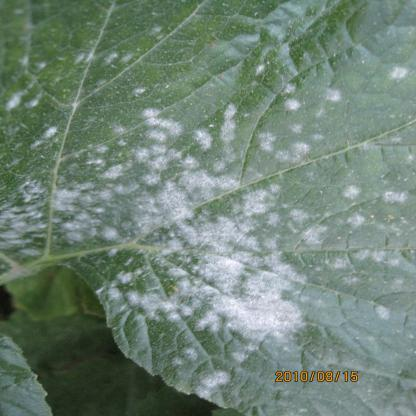squash powdery mildew leaf: (8, 1, 416, 411)
